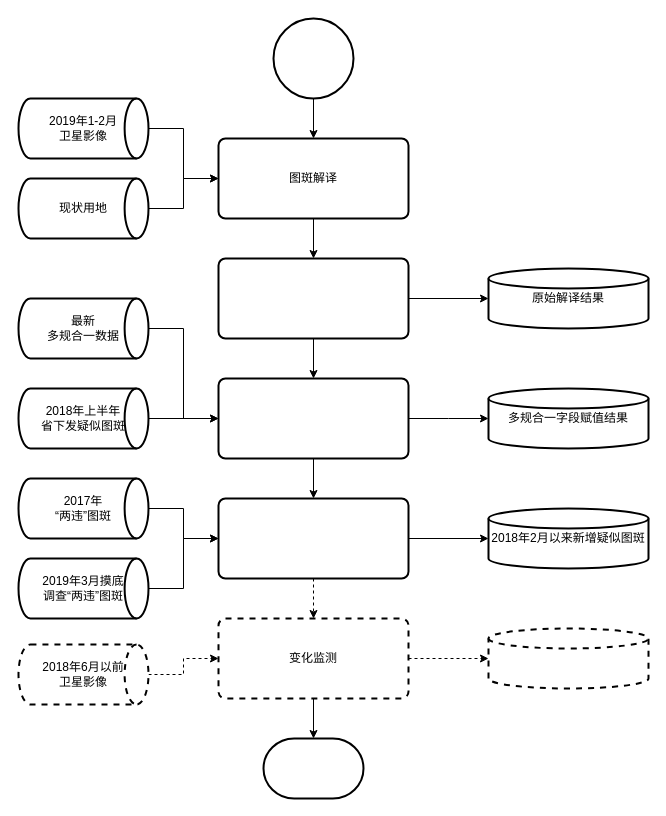
This 666x816 diagram has some shape labels left out. The shapes that lost their labels are listed below. From the top down, each one's box as (x1, y1, x2, y2) in pixels, then its label:
(272, 17, 354, 99): 开始
(217, 257, 409, 339): 结果预处理
(217, 377, 409, 459): 字段赋值
(217, 497, 409, 579): 重复剔除
(487, 627, 649, 689): 2018年6月以来新增疑似图斑
(262, 737, 364, 799): 结束
